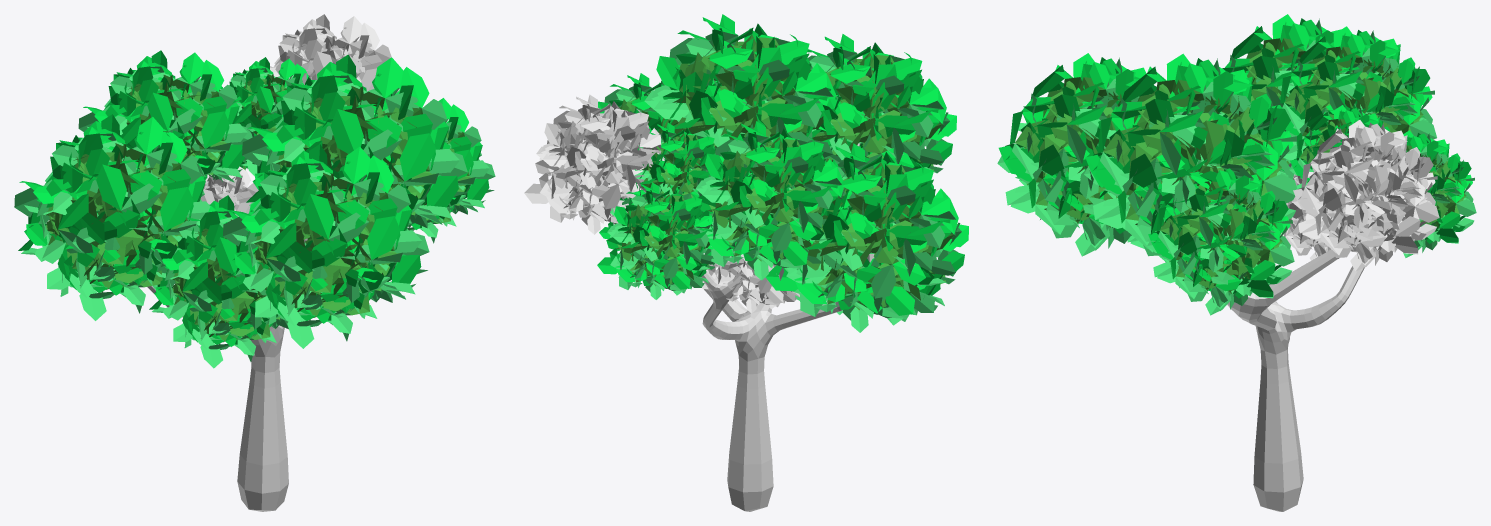
Rendered from Tree.fbx.
The picture shows the model from 3 angles, left to right: view 1: azimuth 30°, elevation 25°; view 2: azimuth 150°, elevation 25°; view 3: azimuth 270°, elevation 25°; orthographic projection. The views are drawn at different scales.
Parts seen in each view (by area): view 1: Icosphere.004, Icosphere.001, Icosphere, Icosphere.007, Icosphere.003, Trunk, Icosphere.006, Icosphere.005, Icosphere.008, Icosphere.010; view 2: Icosphere.001, Icosphere, Icosphere.003, Icosphere.004, Icosphere.006, Trunk, Icosphere.002, Icosphere.005, Icosphere.010, Icosphere.008; view 3: Icosphere, Icosphere.004, Icosphere.006, Icosphere.008, Icosphere.003, Trunk, Icosphere.001, Icosphere.002, Icosphere.005, Icosphere.010.
Part boxes in pixels (left/top/right/bottom): Icosphere.004: left=223, top=144, right=429, bottom=348; Icosphere.001: left=14, top=114, right=210, bottom=320; Icosphere: left=242, top=54, right=467, bottom=228; Icosphere.007: left=149, top=195, right=305, bottom=368; Icosphere.003: left=78, top=50, right=252, bottom=183; Trunk: left=147, top=238, right=307, bottom=511; Icosphere.006: left=270, top=14, right=399, bottom=93; Icosphere.005: left=229, top=57, right=308, bottom=176; Icosphere.008: left=407, top=98, right=495, bottom=243; Icosphere.010: left=200, top=166, right=258, bottom=216; Icosphere.001: left=765, top=143, right=968, bottom=332; Icosphere: left=644, top=14, right=842, bottom=161; Icosphere.003: left=695, top=121, right=852, bottom=280; Icosphere.004: left=807, top=34, right=956, bottom=173; Icosphere.006: left=524, top=94, right=667, bottom=234; Trunk: left=701, top=143, right=874, bottom=511; Icosphere.002: left=597, top=182, right=714, bottom=299; Icosphere.005: left=634, top=122, right=723, bottom=216; Icosphere.010: left=702, top=253, right=799, bottom=313; Icosphere.008: left=598, top=73, right=706, bottom=133; Icosphere: left=1084, top=53, right=1297, bottom=256; Icosphere.004: left=997, top=53, right=1146, bottom=256; Icosphere.006: left=1292, top=120, right=1439, bottom=271; Icosphere.008: left=1147, top=168, right=1294, bottom=315; Icosphere.003: left=1271, top=26, right=1436, bottom=160; Trunk: left=1227, top=192, right=1372, bottom=511; Icosphere.001: left=1222, top=14, right=1341, bottom=164; Icosphere.002: left=1403, top=130, right=1476, bottom=257; Icosphere.005: left=1289, top=105, right=1389, bottom=189; Icosphere.010: left=1280, top=163, right=1356, bottom=260.
Size of the model in its own units: 10.73 by 11.45 by 10.56.
